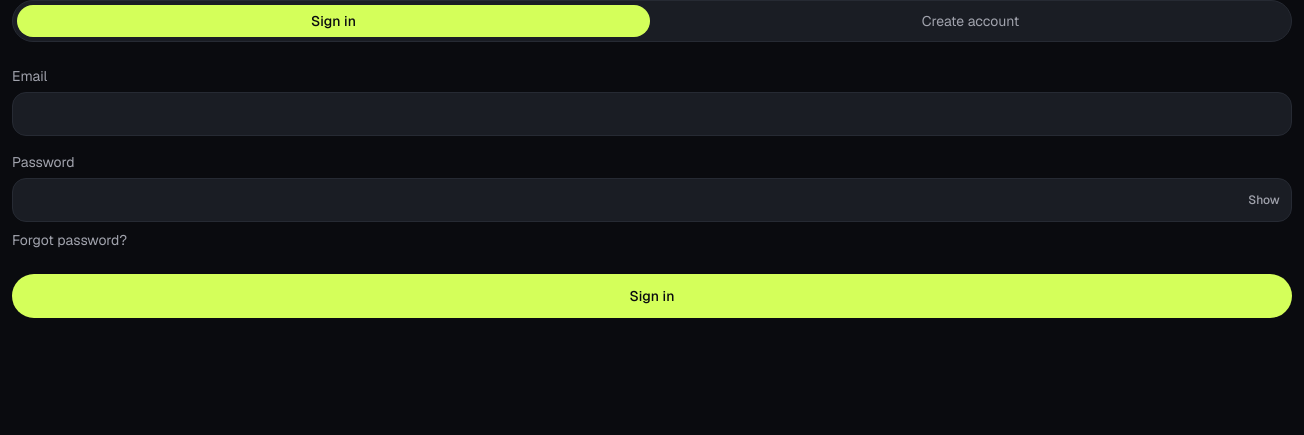
Test case: SignInForm › shows the password requirements hint only in Create account mode
Expected: the text "At least 15 characters" is not shown
Click the tab "Create account" at (970, 21), box [654,5,1287,37]
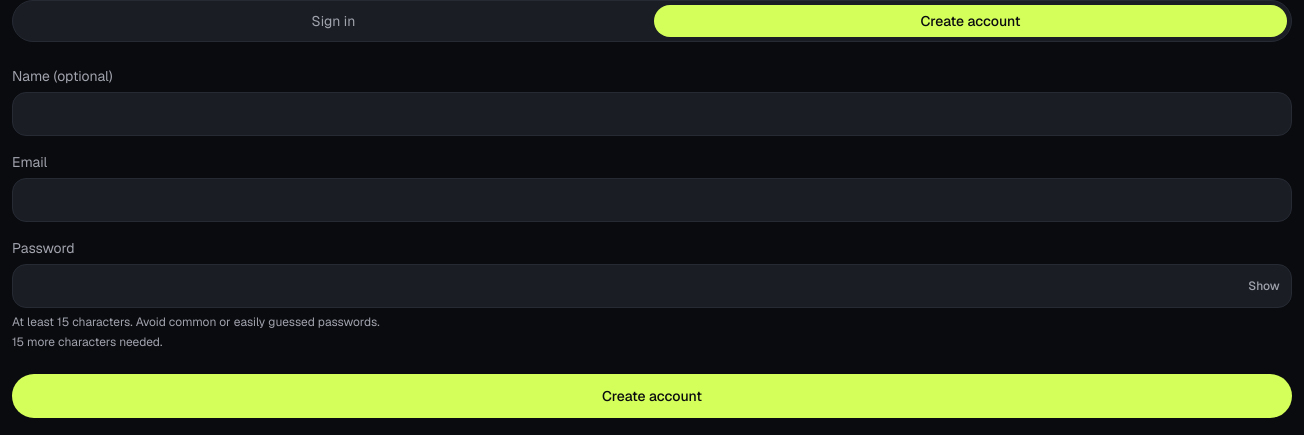
Result: the text "At least 15 characters" is shown at [12,314,380,330]
